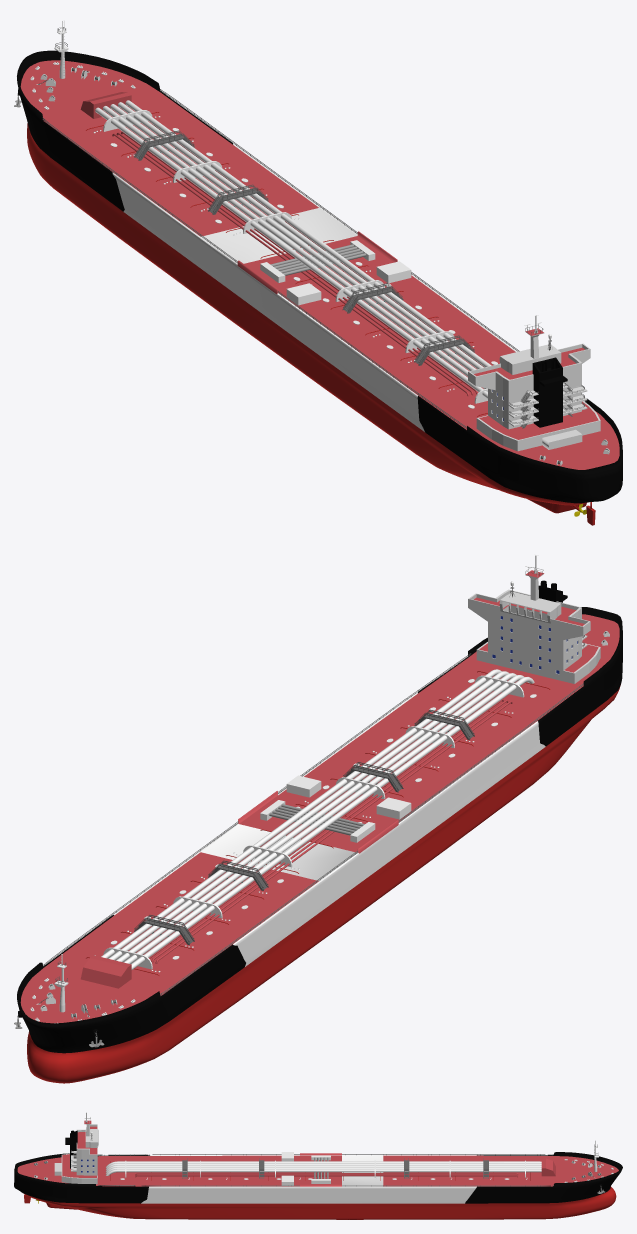
The model's file is tanker_ship.fbx.
3 views of the same model, one above another, from view 1: azimuth 30°, elevation 25°; view 2: azimuth 150°, elevation 25°; view 3: azimuth 270°, elevation 25° (orthographic). The views are drawn at different scales.
Visible parts, largest first — view 1: Object_4, Object_5, Object_7, Object_18, Object_6, Object_12, Object_22, Object_14, Object_70, Object_52, Object_8, Object_9 (+2 smaller); view 2: Object_4, Object_7, Object_18, Object_5, Object_6, Object_12, Object_22, Object_14, Object_70, Object_52, Object_8, Object_9 (+2 smaller); view 3: Object_4, Object_7, Object_5, Object_10, Object_18, Object_14, Object_12, Object_52, Object_22, Object_9, Object_70, Object_6 (+3 smaller).
Boxes of the visible parts, box(x1,y1,x2,y2) form: Object_4: box(20, 60, 619, 469); Object_5: box(17, 50, 622, 503); Object_7: box(27, 123, 587, 505); Object_18: box(95, 100, 491, 398); Object_6: box(112, 143, 424, 431); Object_12: box(468, 343, 600, 451); Object_22: box(103, 110, 487, 403); Object_14: box(112, 124, 484, 396); Object_70: box(134, 130, 474, 365); Object_52: box(42, 89, 586, 428); Object_8: box(201, 226, 295, 263); Object_9: box(272, 208, 357, 249); Object_4: box(20, 597, 619, 1023); Object_7: box(27, 684, 620, 1083); Object_18: box(101, 669, 534, 969); Object_5: box(17, 585, 622, 1053); Object_6: box(113, 721, 545, 966); Object_12: box(468, 589, 600, 683); Object_22: box(103, 675, 524, 969); Object_14: box(120, 692, 512, 963); Object_70: box(134, 709, 474, 945); Object_52: box(43, 653, 583, 995); Object_8: box(263, 839, 355, 880); Object_9: box(201, 824, 293, 865); Object_4: box(17, 1126, 618, 1186); Object_7: box(24, 1186, 616, 1219); Object_5: box(14, 1130, 622, 1203); Object_10: box(141, 1186, 476, 1203); Object_18: box(105, 1161, 541, 1175); Object_14: box(135, 1173, 518, 1177); Object_12: box(54, 1124, 98, 1184); Object_52: box(98, 1154, 553, 1186); Object_22: box(125, 1152, 525, 1185); Object_9: box(342, 1172, 383, 1186); Object_70: box(182, 1158, 488, 1178); Object_6: box(150, 1155, 476, 1155).
Bounding box in the file's own units: 2015 × 2717 × 16226.
